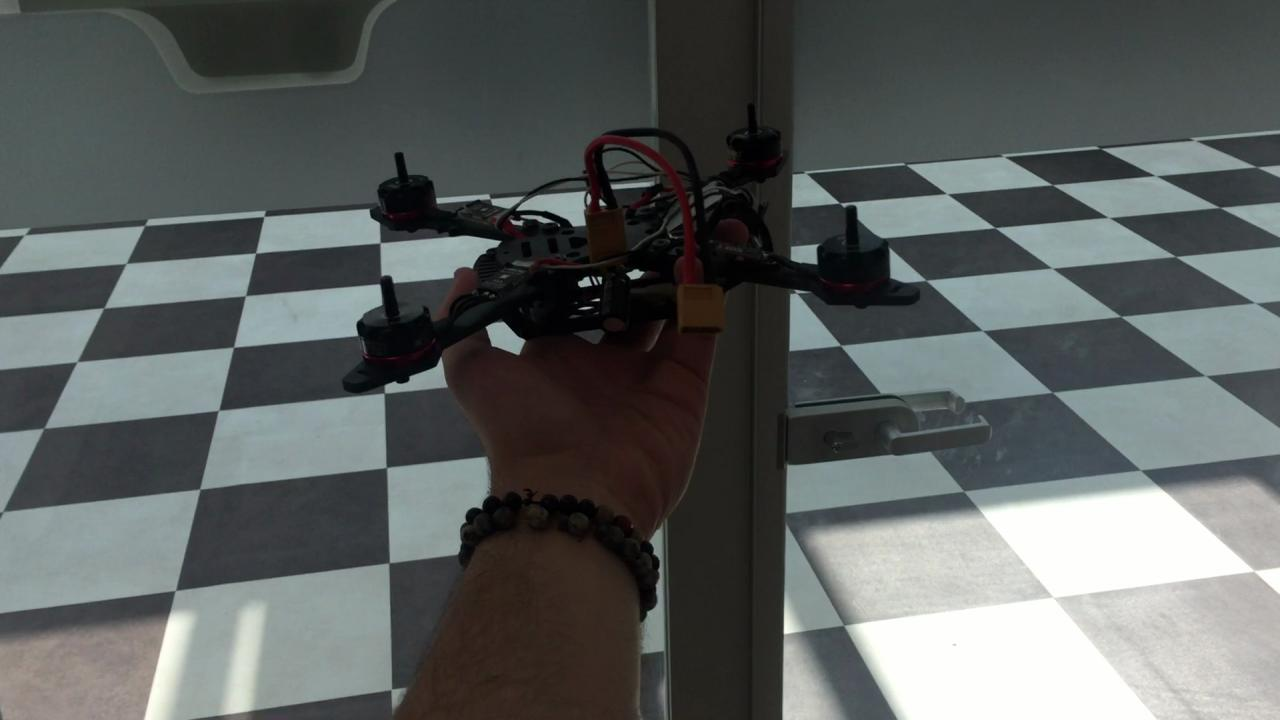Drone: (329, 84, 930, 403)
